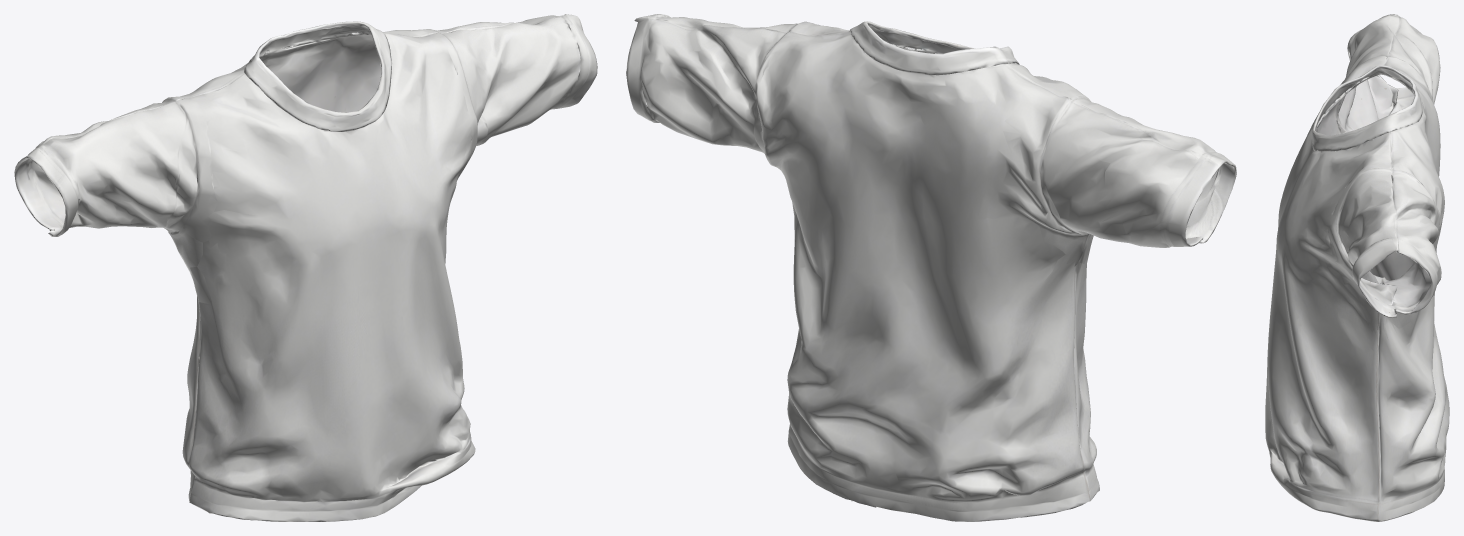
The model's file is hoodie-boy__white_crew_neck_tshirt.glb.
The picture shows the model from 3 angles, left to right: view 1: azimuth 30°, elevation 25°; view 2: azimuth 150°, elevation 25°; view 3: azimuth 270°, elevation 25°; orthographic projection. The views are drawn at different scales.
Parts seen in each view (by area): view 1: hoodie-boy__top__white_crew_neck_tshirt; view 2: hoodie-boy__top__white_crew_neck_tshirt; view 3: hoodie-boy__top__white_crew_neck_tshirt.
Boxes of the visible parts, <box> form: hoodie-boy__top__white_crew_neck_tshirt: <box>14,14,597,521</box>; hoodie-boy__top__white_crew_neck_tshirt: <box>626,14,1236,521</box>; hoodie-boy__top__white_crew_neck_tshirt: <box>1265,14,1449,521</box>.
Bounding box in the file's own units: 0.7642 × 0.5689 × 0.249.
Materials: 1 (1 with a texture image).
